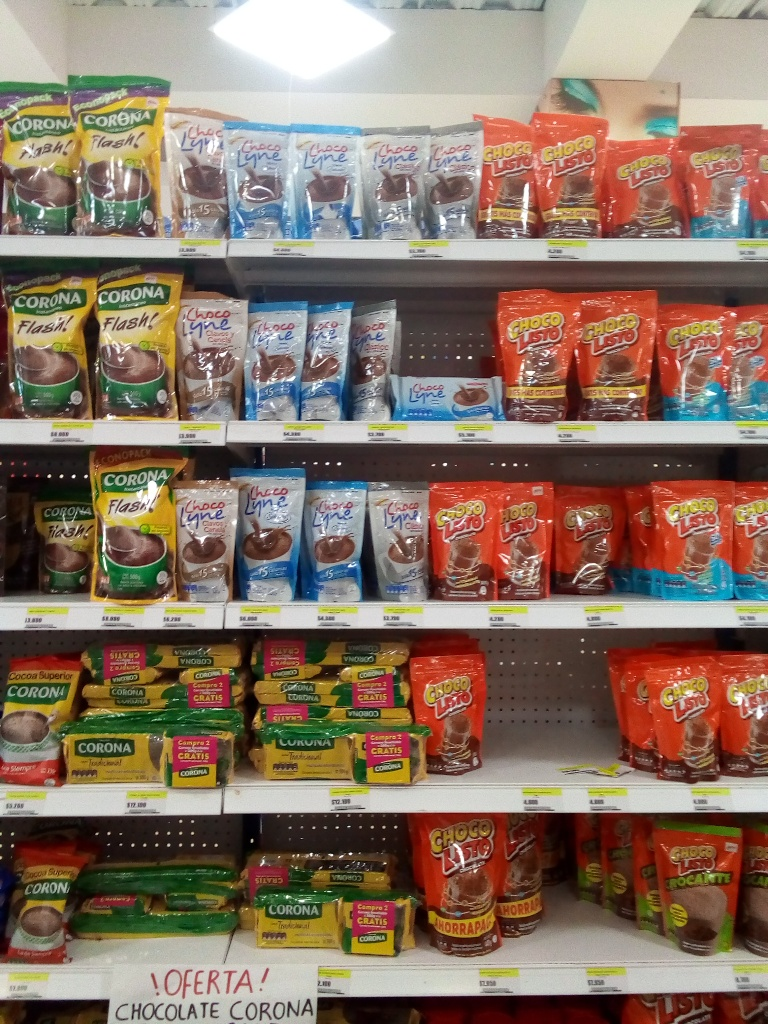COL0170103DYP44000: (409, 810, 503, 961)
COL0170104DYP20000: (652, 302, 734, 421)
